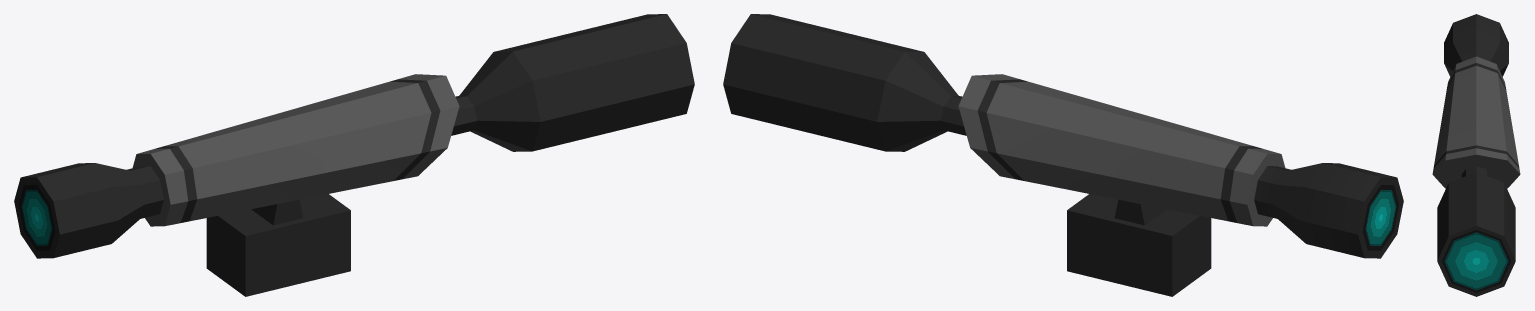
Rendered from Accessories_Sniper_Scope_C.FBX.
The picture shows the model from 3 angles, left to right: view 1: azimuth 30°, elevation 25°; view 2: azimuth 150°, elevation 25°; view 3: azimuth 270°, elevation 25°; orthographic projection. The views are drawn at different scales.
Parts seen in each view (by area): view 1: Accessories_Sniper_Scope_C; view 2: Accessories_Sniper_Scope_C; view 3: Accessories_Sniper_Scope_C.
Part boxes in pixels (bbox=[...]): Accessories_Sniper_Scope_C: bbox=[14, 14, 694, 296]; Accessories_Sniper_Scope_C: bbox=[723, 14, 1403, 296]; Accessories_Sniper_Scope_C: bbox=[1432, 14, 1520, 296].
Size of the model in its own units: 145 by 35.47 by 24.73.
